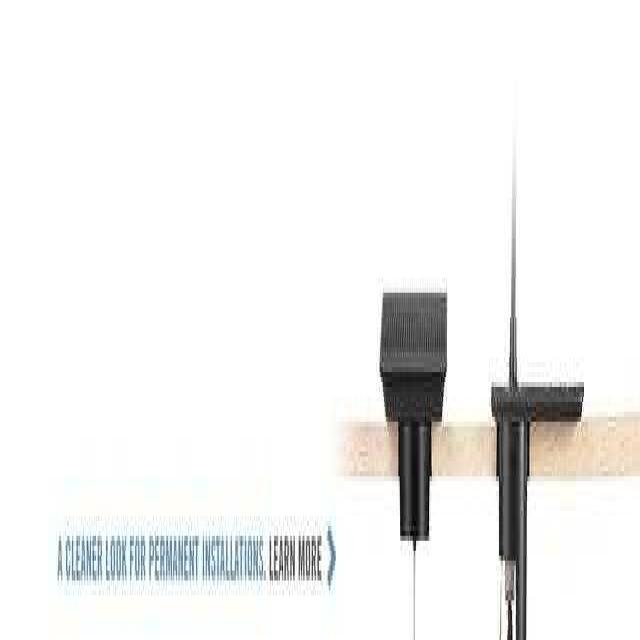microphone: (377, 284, 450, 564)
